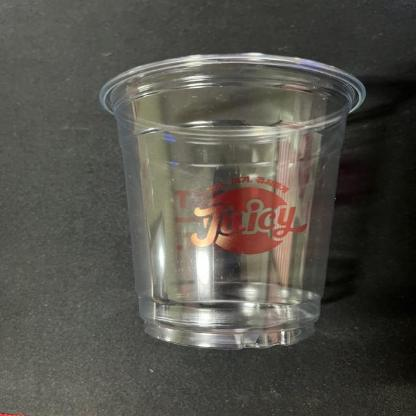Plastic Cup: (95, 47, 373, 357)
